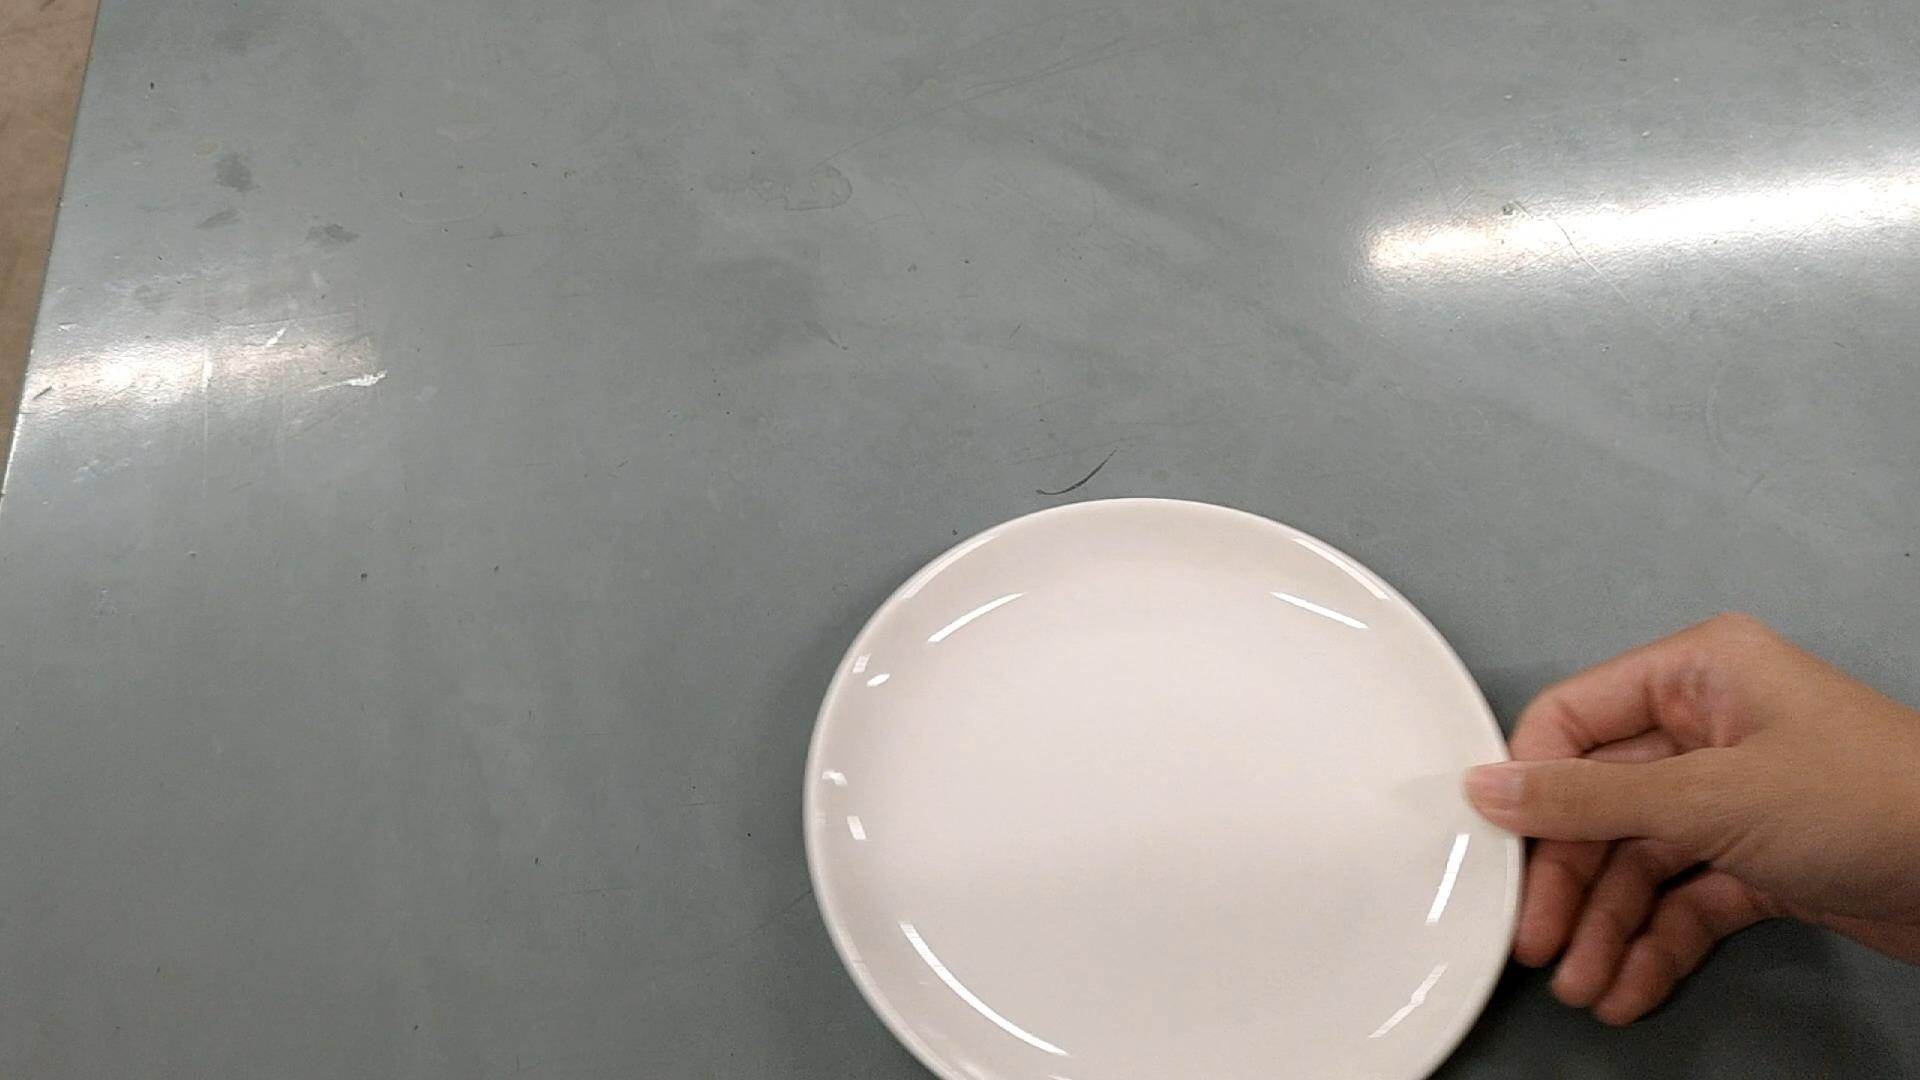plate: (806, 493, 1526, 1080)
